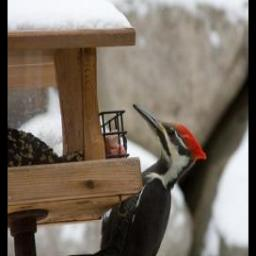Woodpecker: (29, 104, 218, 256)
